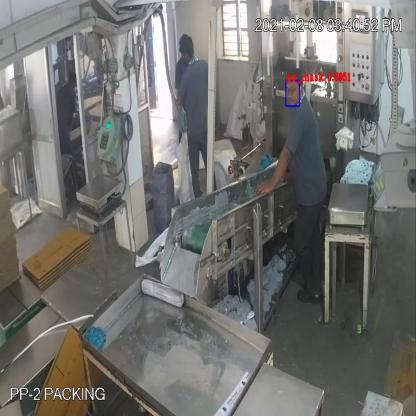no_glove: (254, 136, 297, 200)
